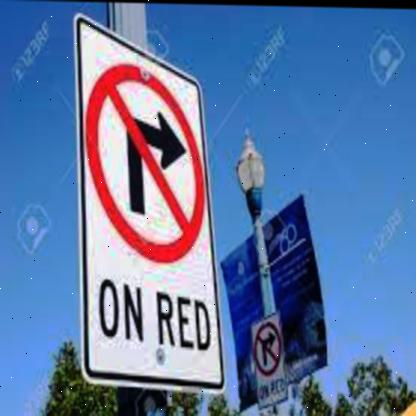No right turn: (78, 35, 207, 270)
